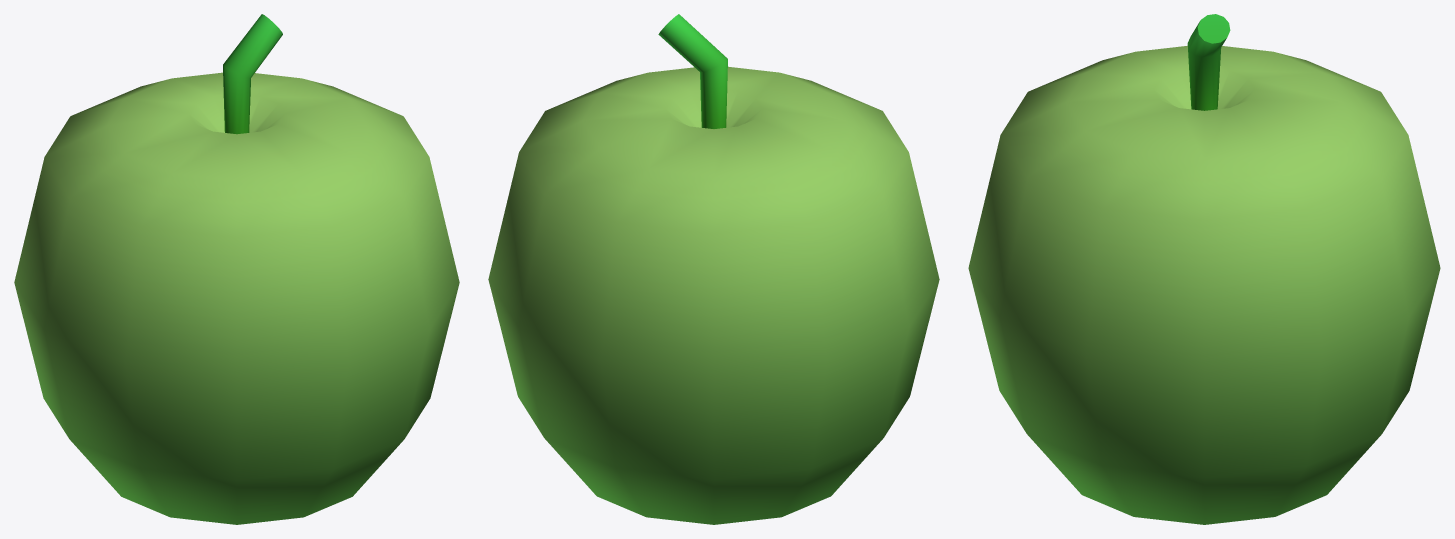
The model's file is apple_green.fbx.
3 renders of one model, left to right at view 1: azimuth 30°, elevation 25°; view 2: azimuth 150°, elevation 25°; view 3: azimuth 270°, elevation 25°, orthographic. The views are drawn at different scales.
Parts seen in each view (by area): view 1: apple_green; view 2: apple_green; view 3: apple_green.
Boxes of the visible parts, bbox=[...] form: apple_green: bbox=[14, 14, 459, 524]; apple_green: bbox=[488, 14, 939, 524]; apple_green: bbox=[968, 14, 1440, 524].
Bounding box in the file's own units: 70.87 × 82.73 × 70.87.
